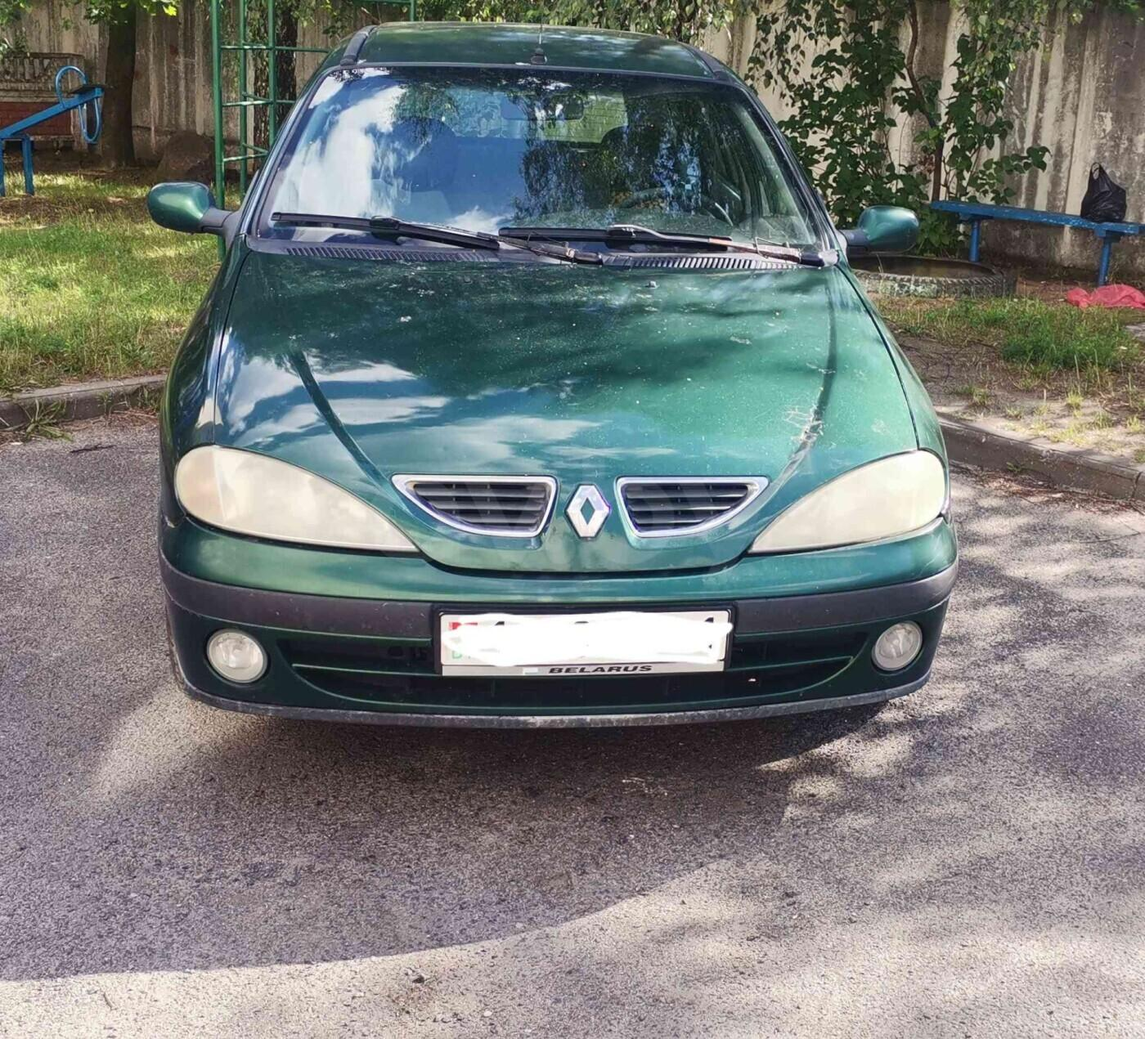Megane_1999-2003: (131, 14, 979, 763)
